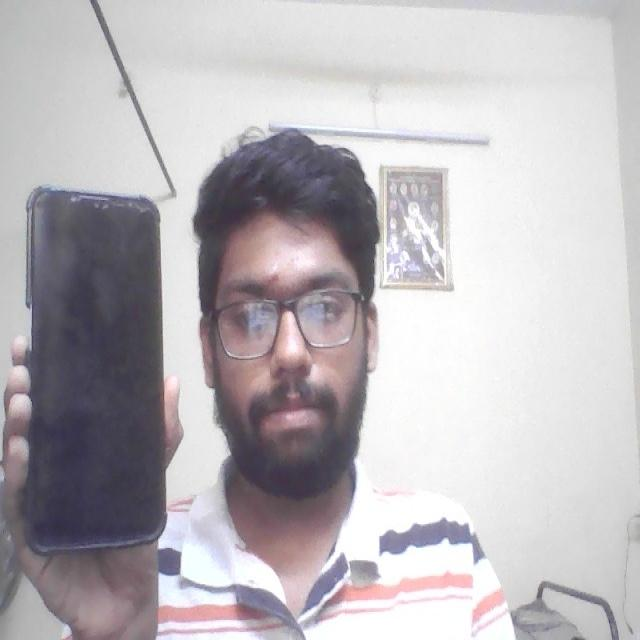Mobile: (20, 182, 169, 559)
